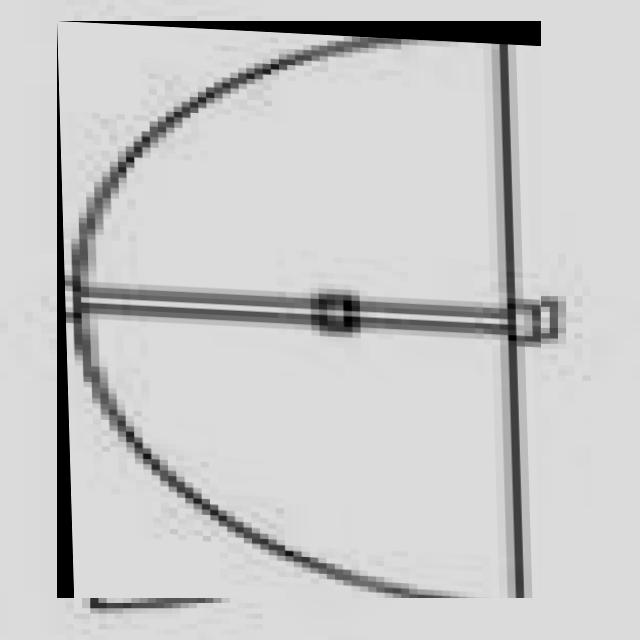door: (58, 21, 542, 598)
